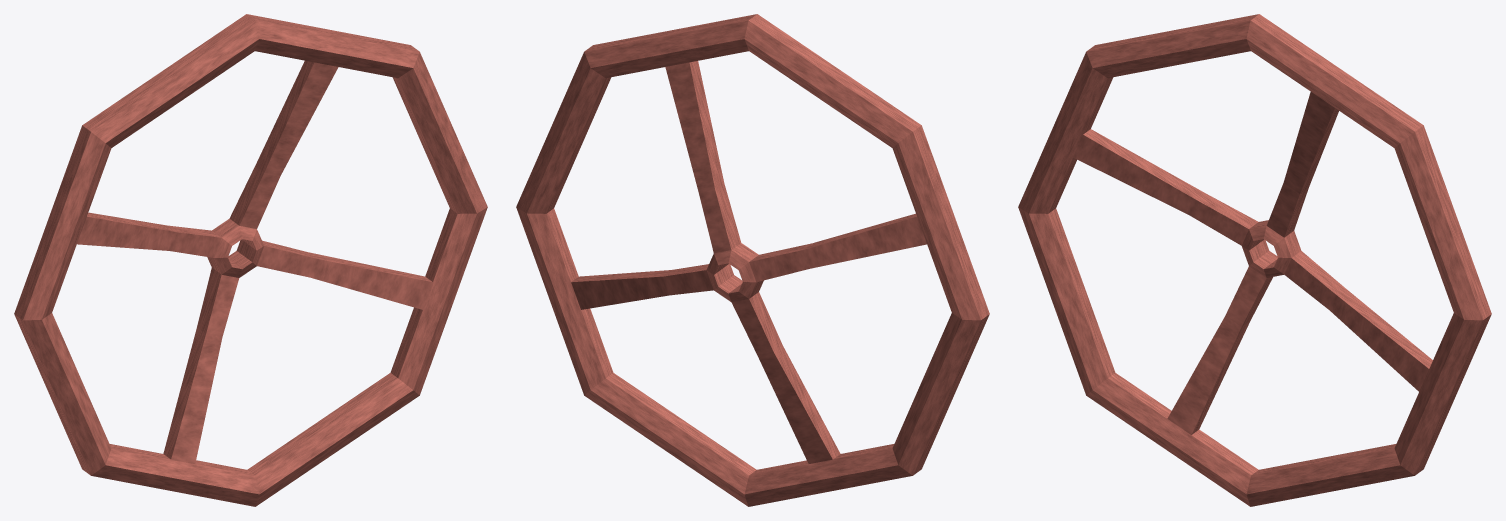
Rendered from SpecialKey-Wheel.fbx.
The picture shows the model from 3 angles, left to right: view 1: azimuth 30°, elevation 25°; view 2: azimuth 150°, elevation 25°; view 3: azimuth 330°, elevation 25°; orthographic projection.
Visible parts, largest first — view 1: Key-Wheel; view 2: Key-Wheel; view 3: Key-Wheel.
Boxes of the visible parts, box(x1,y1,x2,y2) form: Key-Wheel: box(14, 14, 487, 506); Key-Wheel: box(516, 14, 989, 506); Key-Wheel: box(1018, 14, 1491, 506).
Bounding box in the file's own units: 81.11 × 81.11 × 9.98.
1 material, 1 textured.
